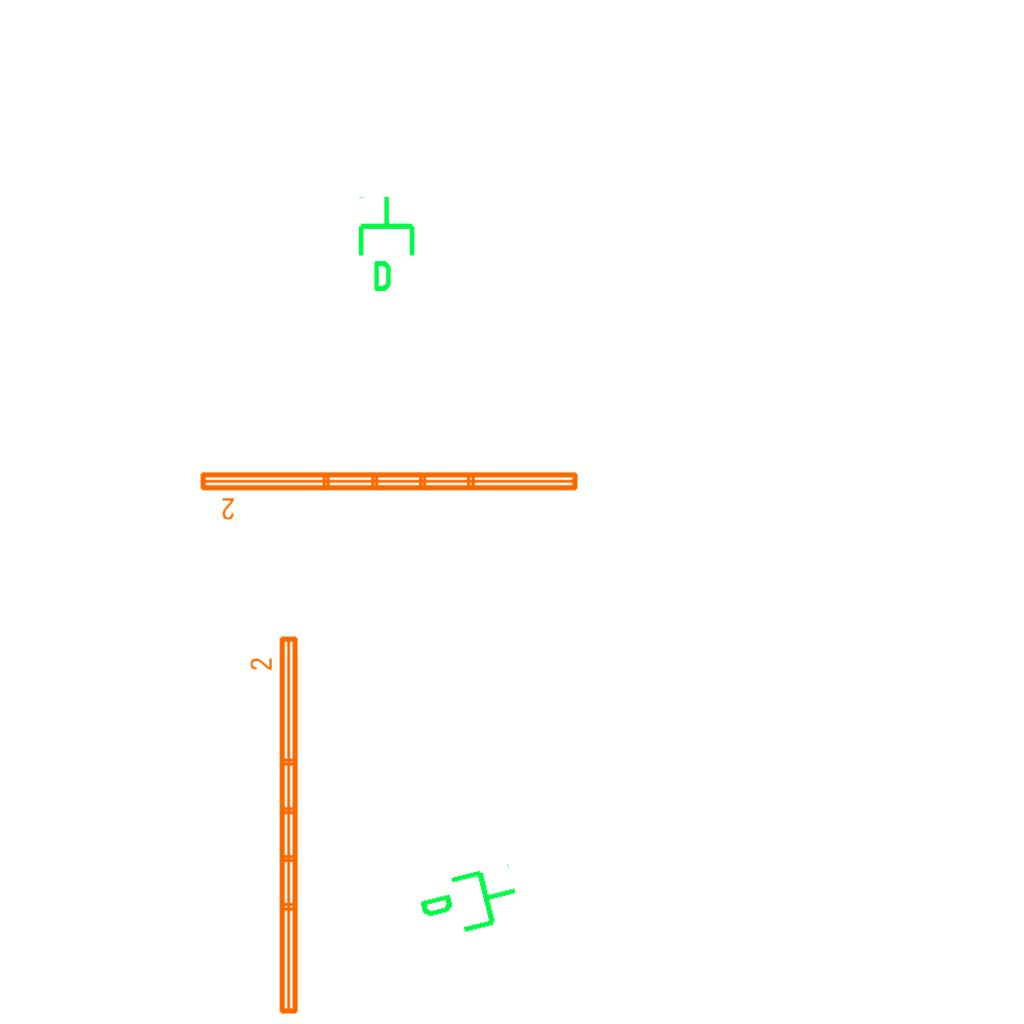Ambulanz_Pendelleuchte_LED: (196, 466, 583, 522), (248, 632, 304, 1019)
Datenanschluss_einfach: (412, 858, 527, 950), (354, 194, 423, 294)
